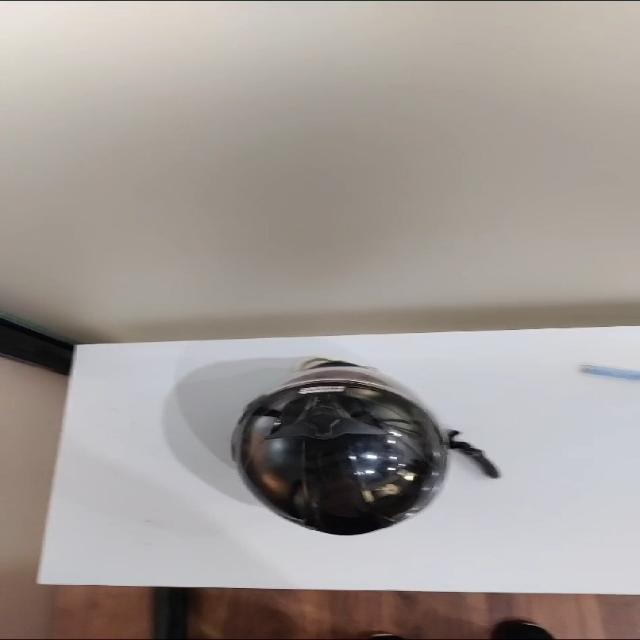helmet: (232, 358, 498, 535)
